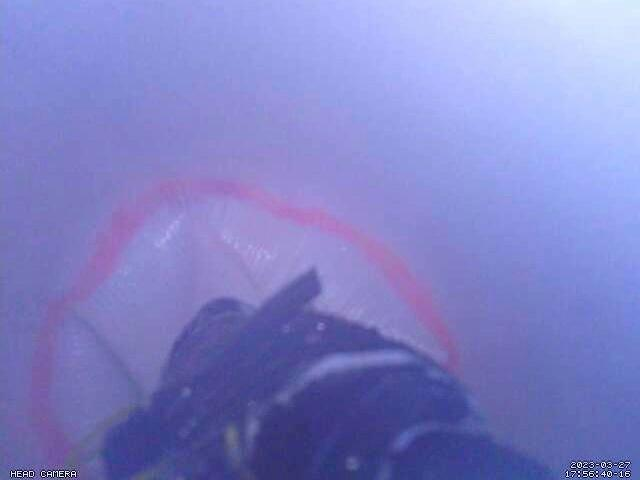head: (28, 176, 460, 480)
